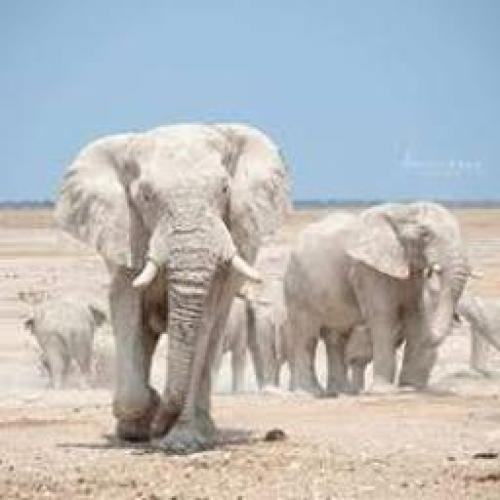african_elephant-endangered: (51, 123, 299, 456), (288, 193, 473, 405), (200, 294, 290, 402), (24, 289, 100, 397)
